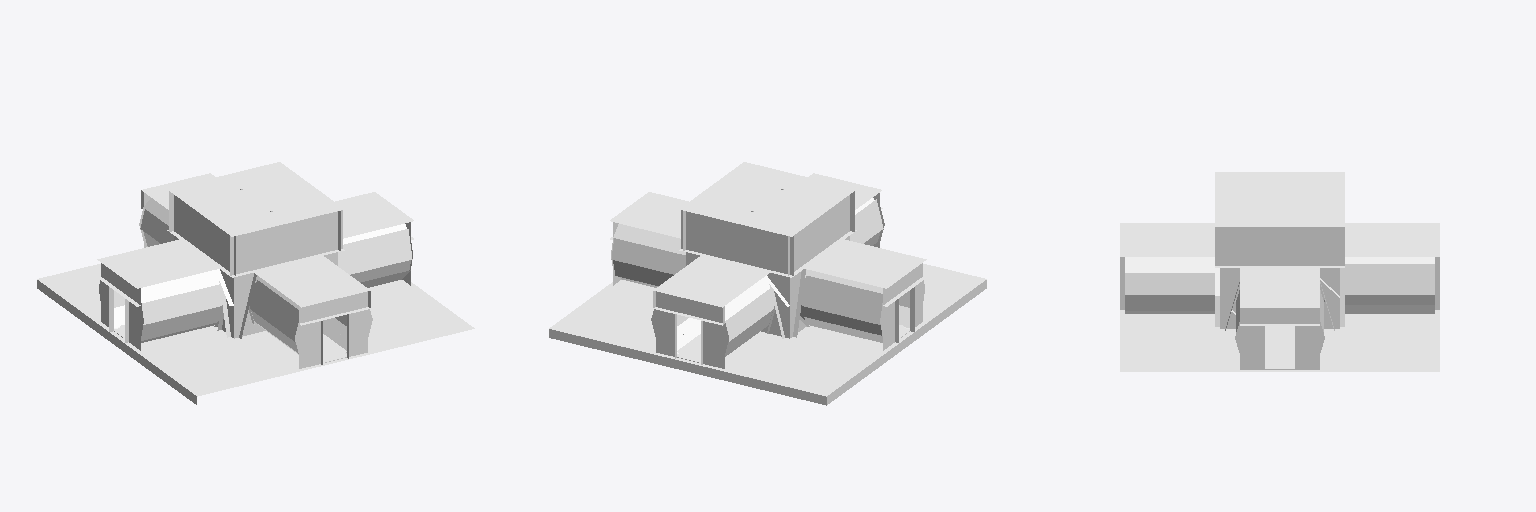
Rendered from HC_room4.obj.
3 renders of one model, left to right at view 1: azimuth 30°, elevation 25°; view 2: azimuth 150°, elevation 25°; view 3: azimuth 270°, elevation 25°, orthographic.
Visible parts, largest first — view 1: room4tunnels; view 2: room4tunnels; view 3: room4tunnels.
Part boxes in pixels (x1,y1,x2,y2): room4tunnels: (37,162,474,404); room4tunnels: (549,162,986,405); room4tunnels: (1120,172,1439,371).
Bounding box in the file's own units: 20.48 × 8.03 × 20.48.